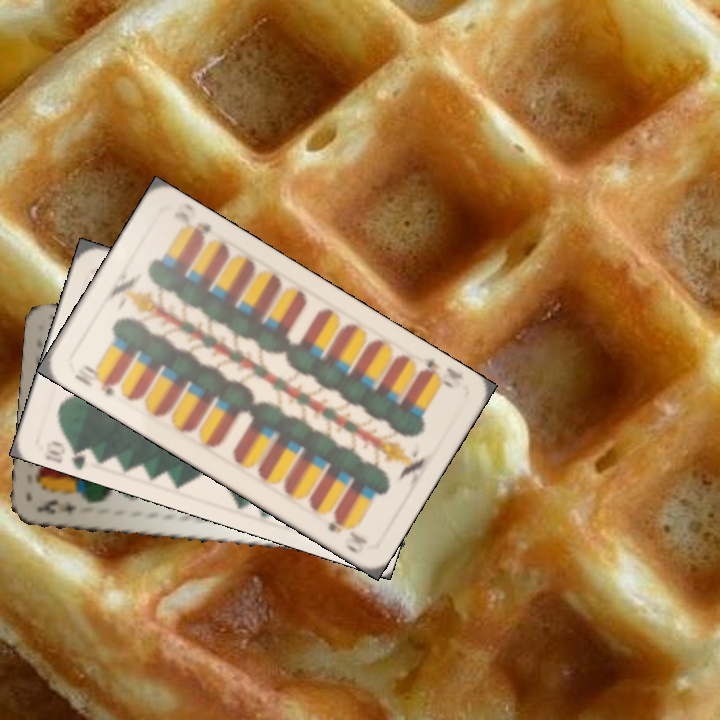E10: (70, 360, 121, 400), (414, 352, 464, 392)
EK: (34, 496, 79, 516)
G10: (42, 436, 98, 470)
